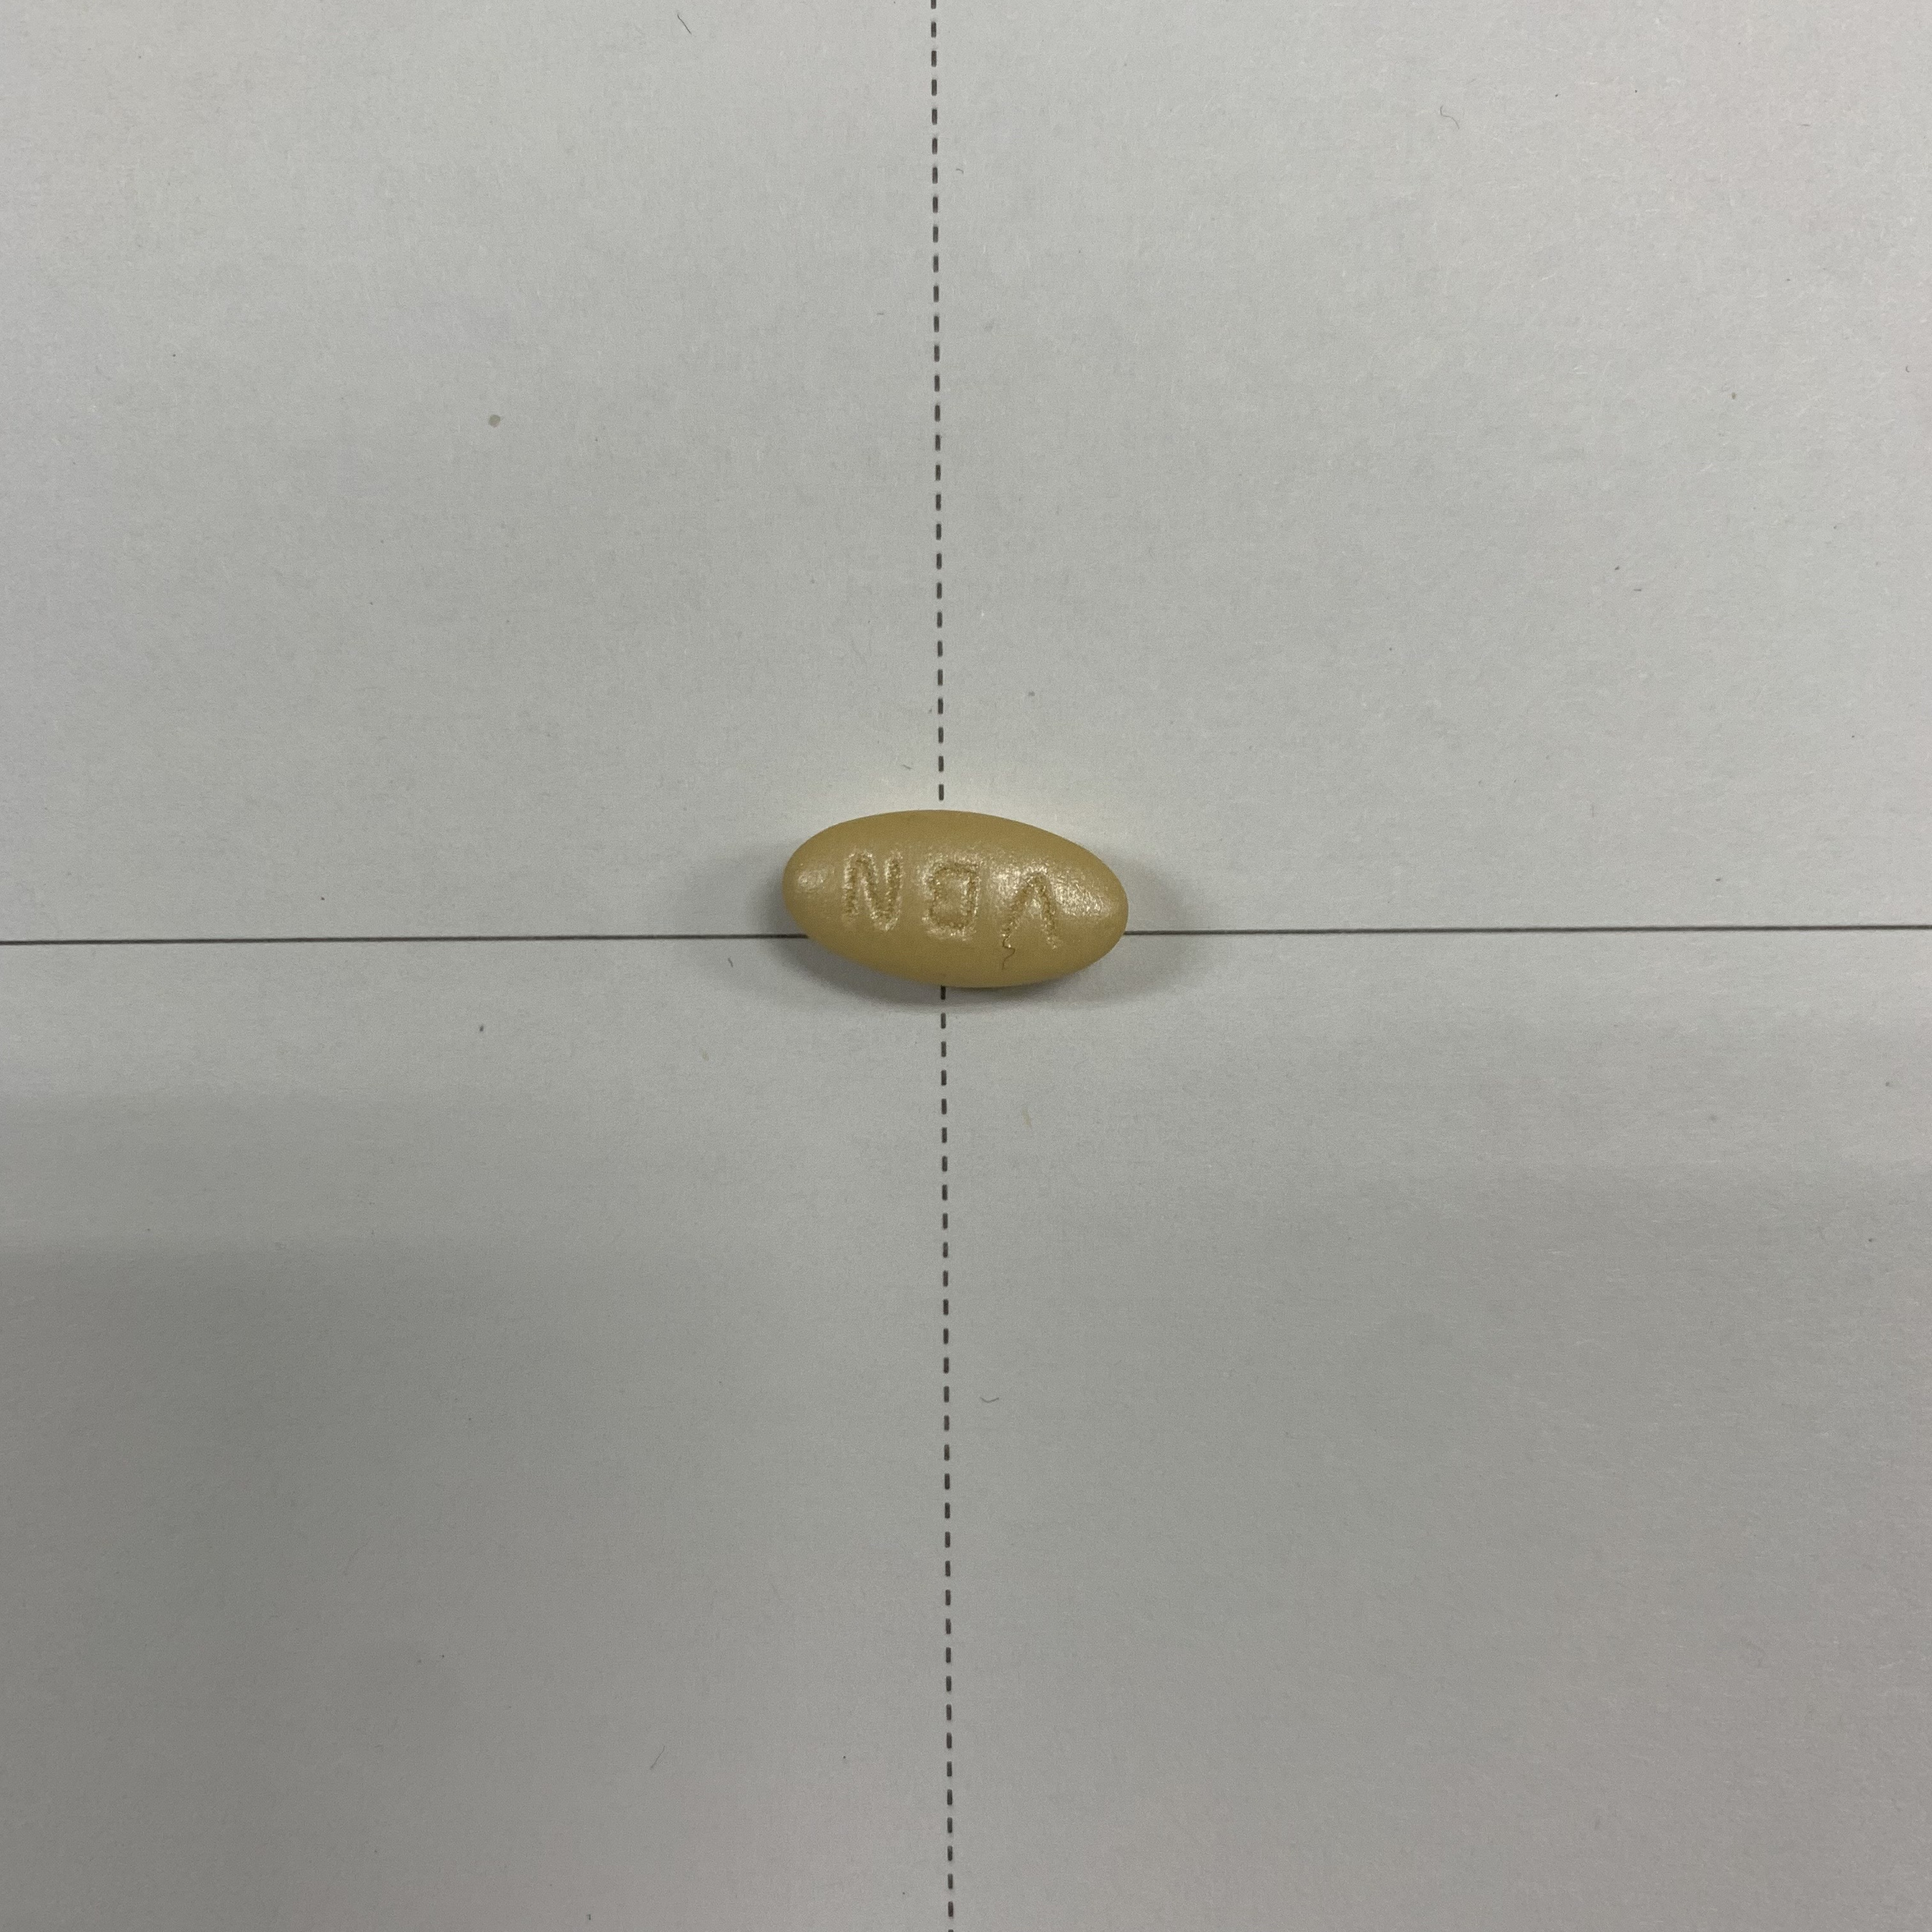oval_drug: (748, 791, 1155, 1021)
